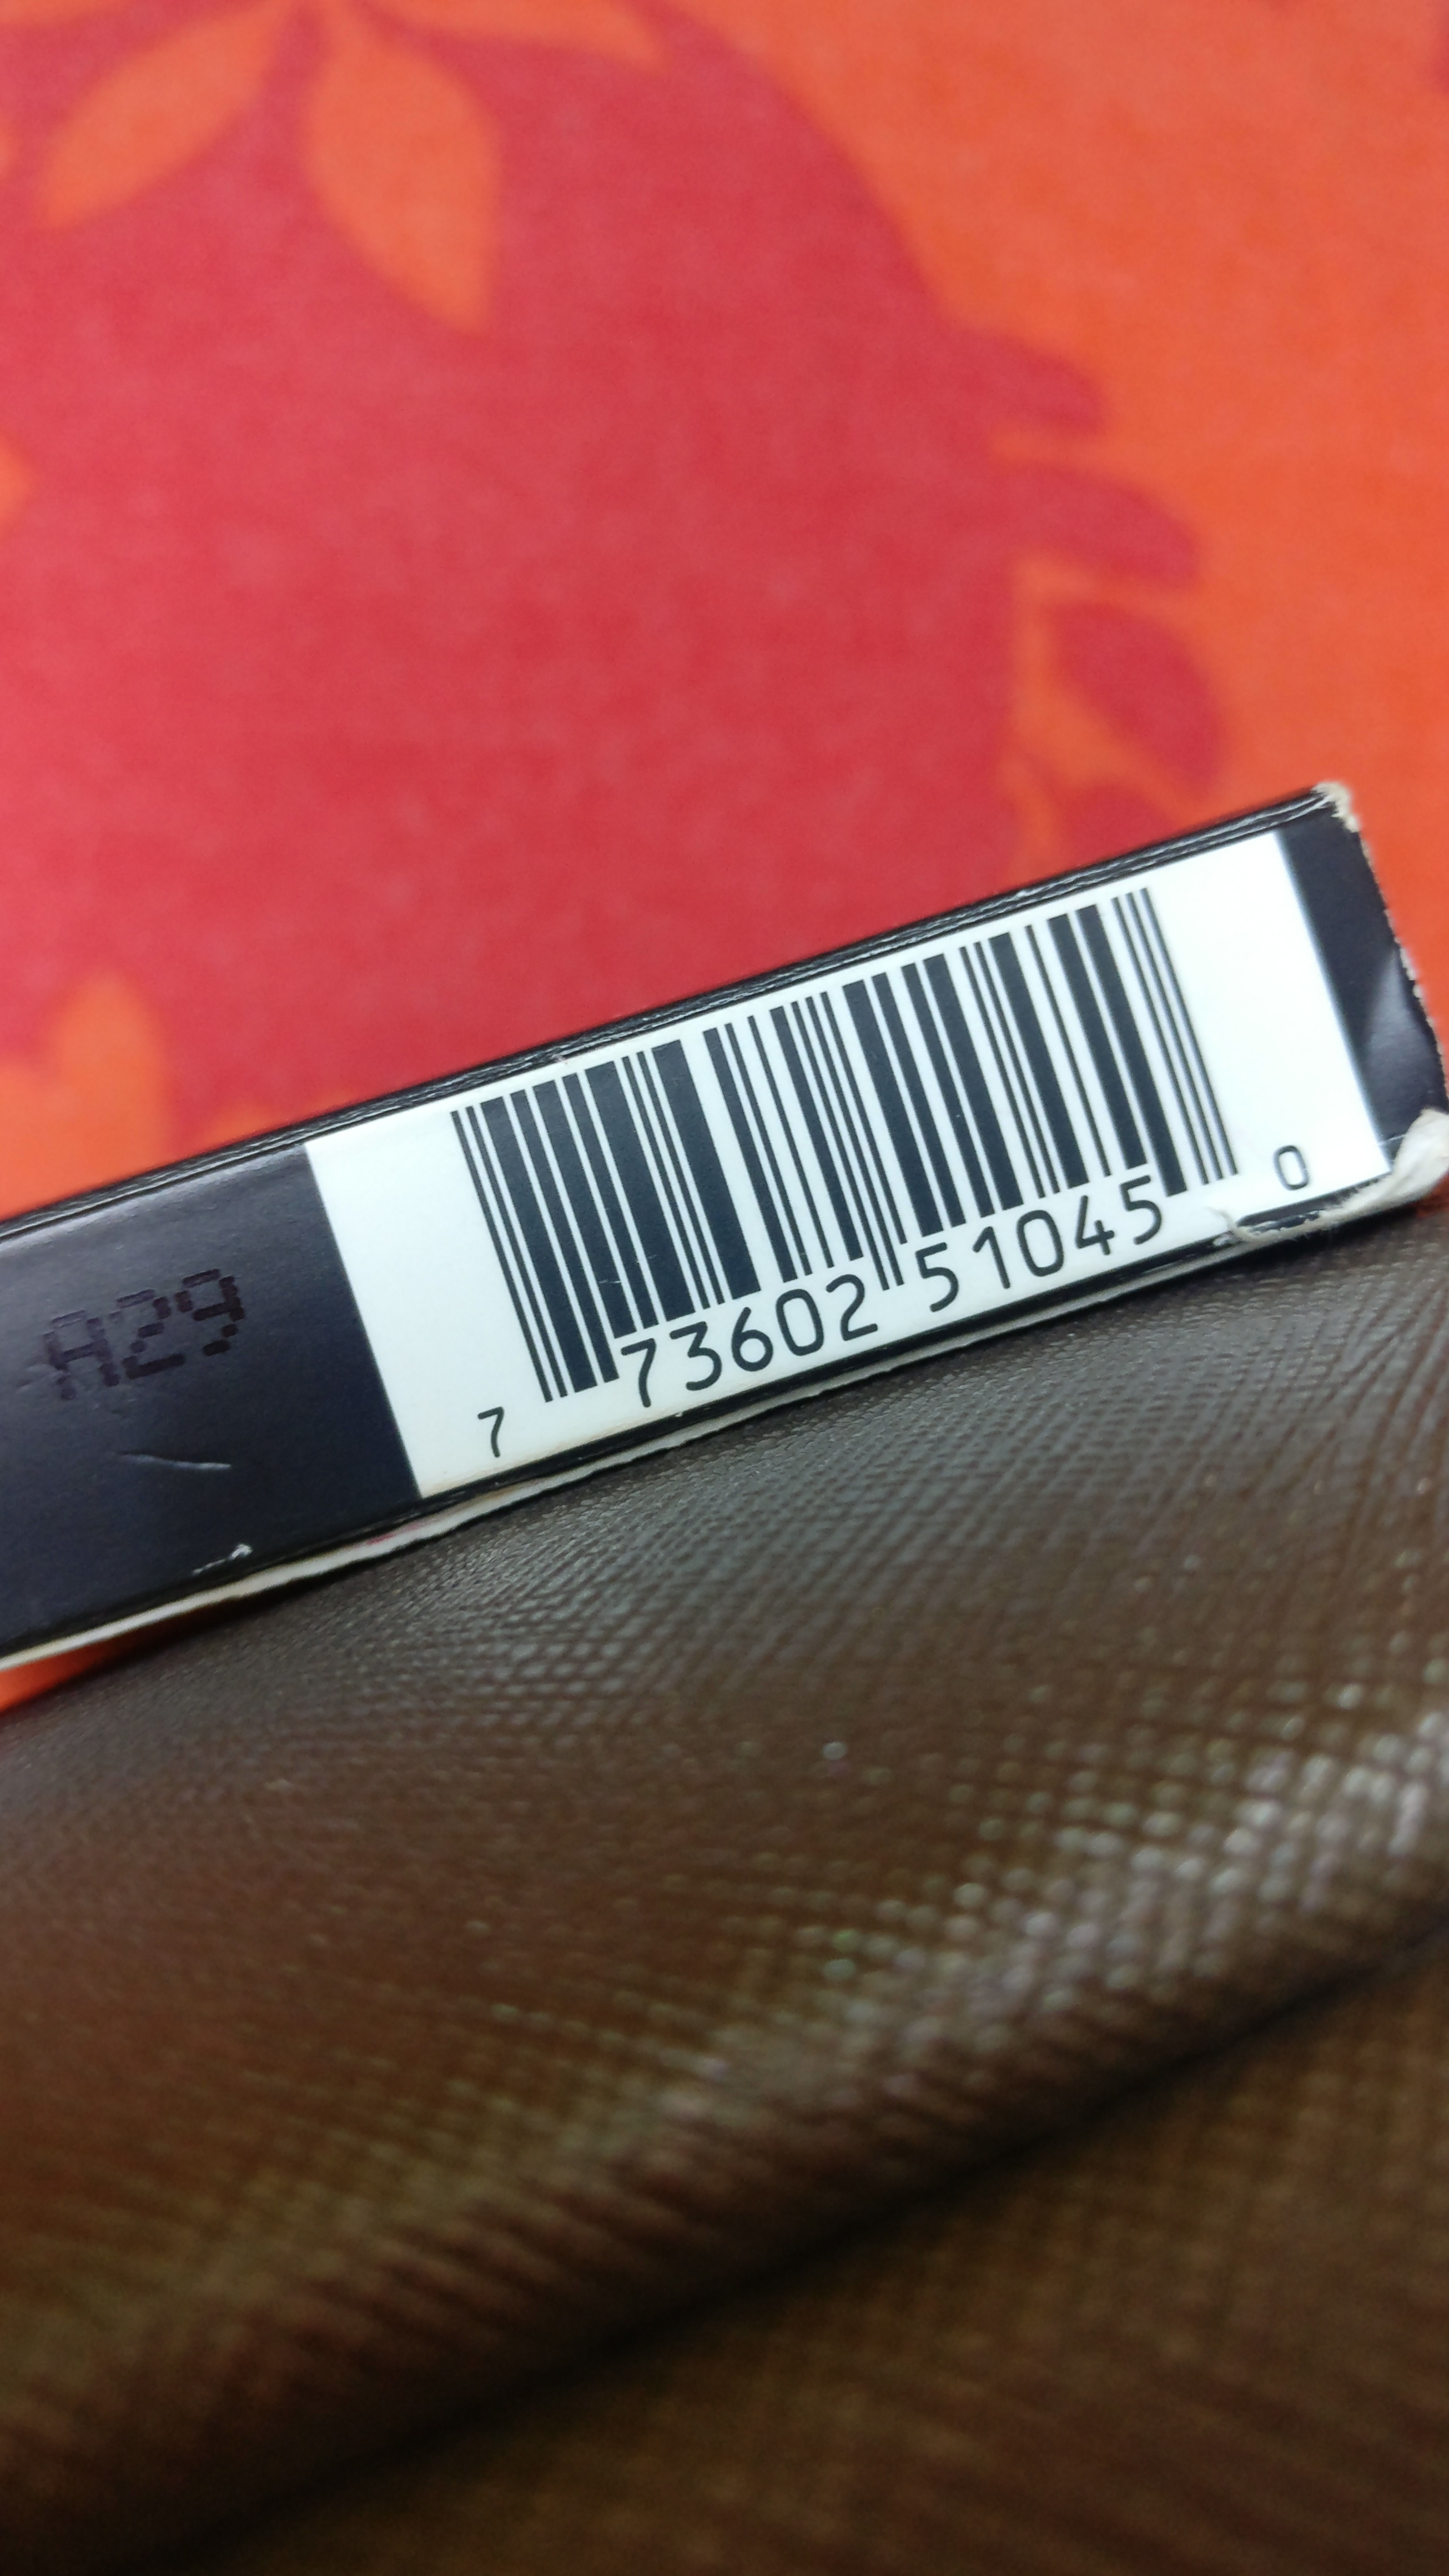barcode: (336, 847, 1330, 1465)
